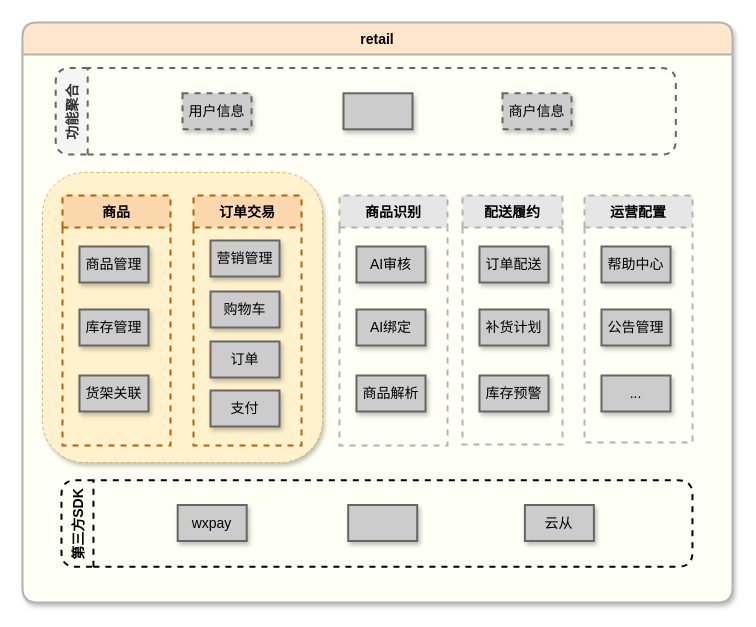
Some shapes in this 756 by 627 pixel diagram are drawn without their labels. Here are the shapes that lost their labels. From the top down, the centre of each, then its label:
point 378,112: 柜机列表
point 383,524: 旷世
